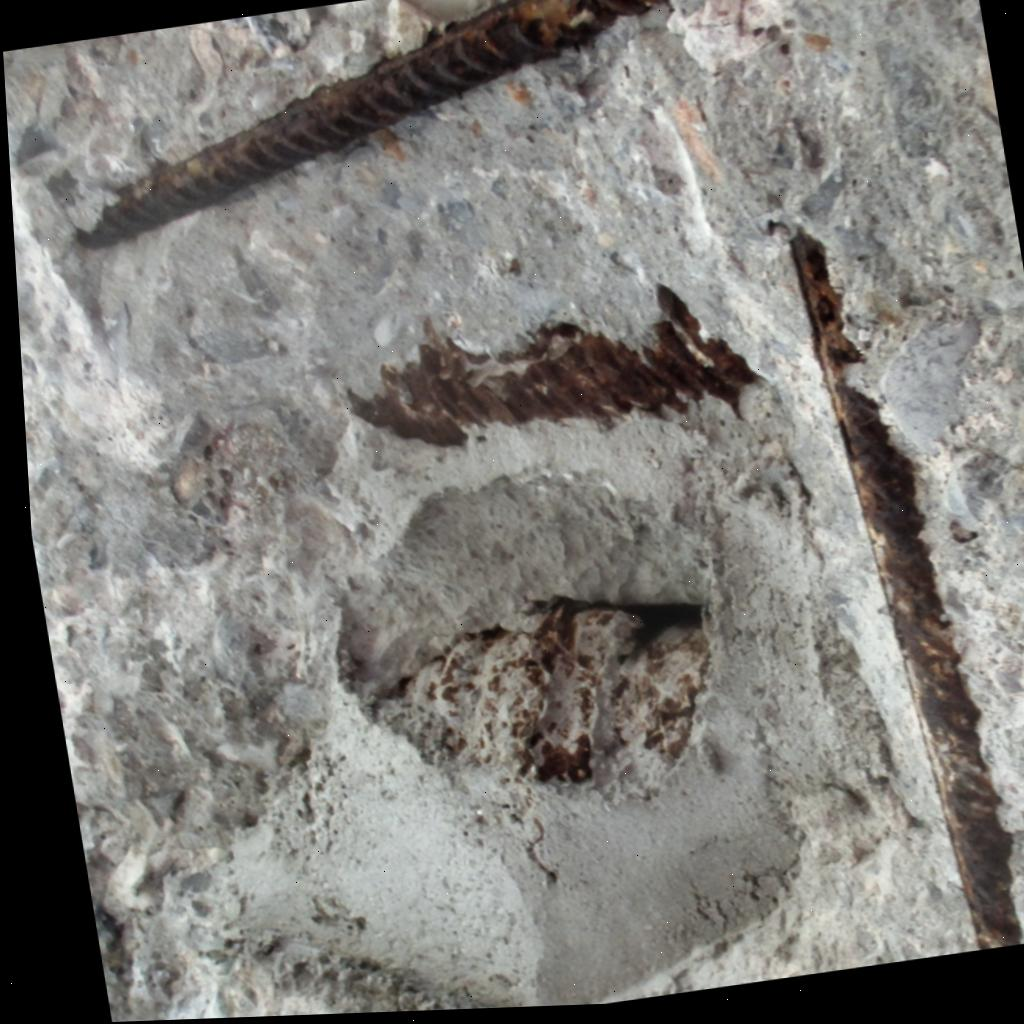exposed_rebar: (790, 231, 1021, 949), (79, 0, 665, 246), (348, 285, 758, 446)
